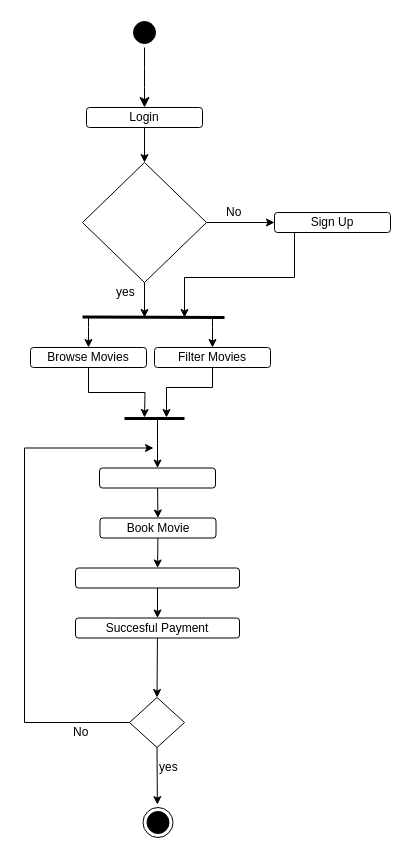
Some shapes in this 408 by 855 pixel diagram are drawn without their labels. Each missing label, with the box of its shape:
Check if the user is registered: (82, 162, 206, 282)
choose Payment Option: (74, 567, 240, 588)
Select Seats: (98, 467, 216, 488)
